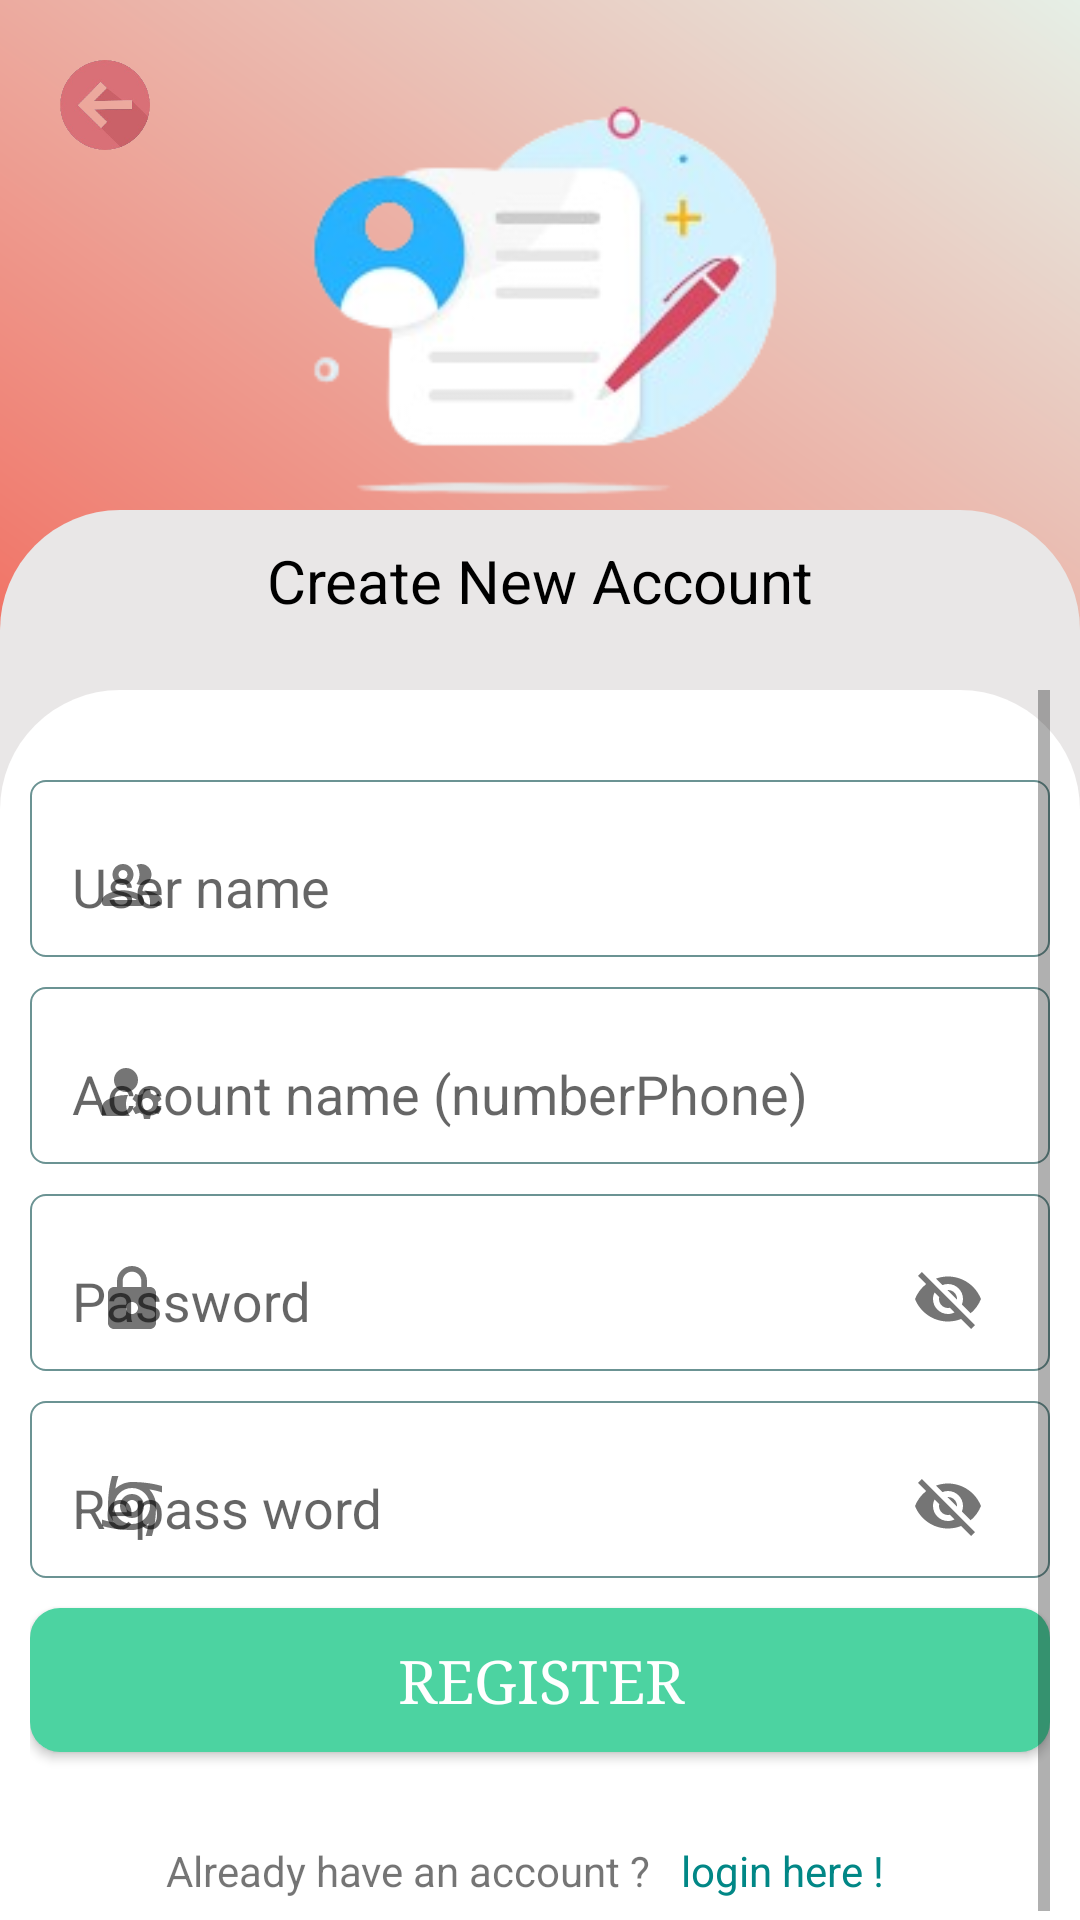

Point at icon controls on the screen. Image size 1080*1920, points as point (x, y).
back: point (105, 105)
